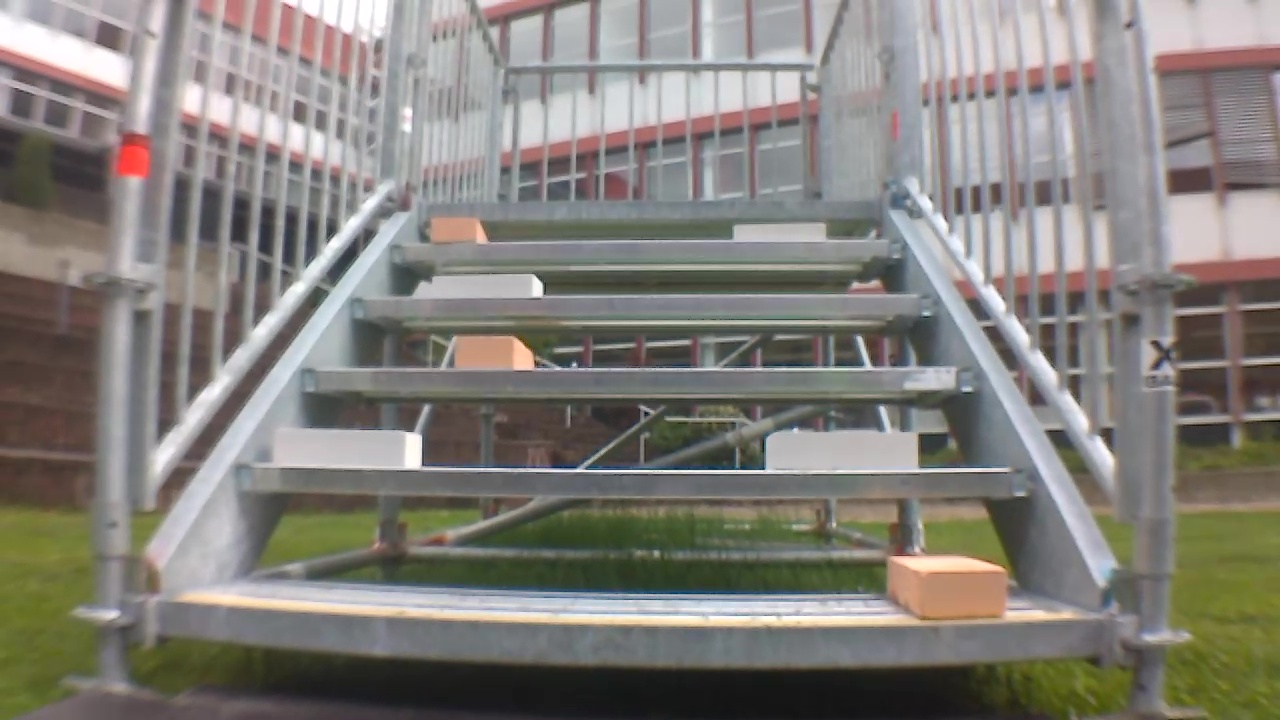brick: (888, 555, 1006, 618), (273, 428, 421, 469), (767, 431, 916, 471), (456, 336, 532, 371), (434, 275, 542, 297), (735, 223, 826, 241), (433, 217, 484, 241)
edge: (156, 602, 1104, 667), (238, 466, 1038, 497), (300, 367, 978, 394), (351, 294, 938, 315), (392, 239, 909, 259), (422, 199, 882, 220)
stairs: (87, 1, 1188, 715)
steps: (148, 196, 1117, 678)
